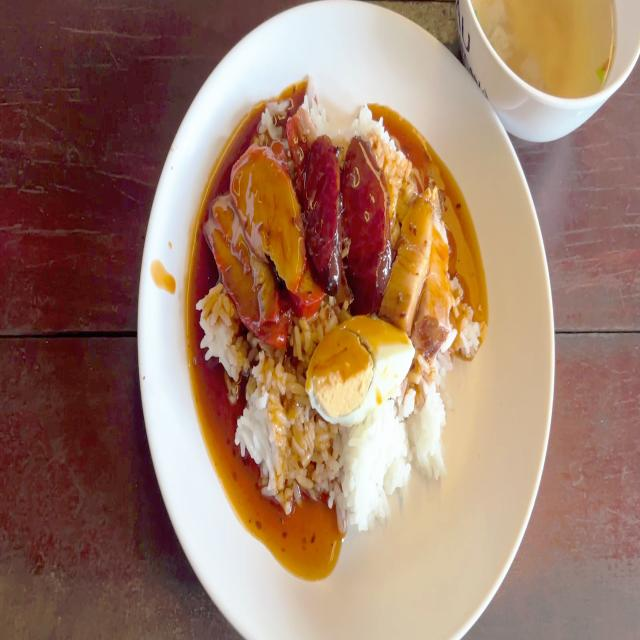boiled_egg: (308, 316, 411, 433)
chainese_sausage: (307, 131, 392, 294), (347, 141, 388, 290), (305, 130, 344, 284)
crispy_pork: (393, 177, 452, 342), (389, 203, 432, 326), (427, 189, 451, 349)
red_pork: (208, 148, 318, 351), (210, 200, 282, 345), (233, 142, 306, 285)
red_pork_and_crispy_pork: (196, 91, 479, 537)
rice: (238, 353, 313, 506), (339, 418, 408, 516), (414, 380, 452, 480), (203, 290, 238, 371)
